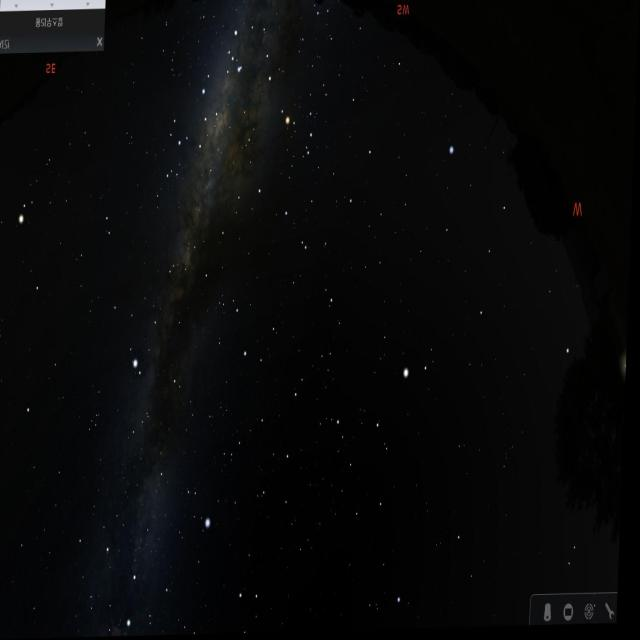aquila: (105, 245, 199, 415)
bootes: (352, 328, 444, 534)
cygnus: (104, 447, 186, 633)
lyra: (187, 476, 218, 536)
sagittarius: (163, 69, 236, 170)
scorpius: (224, 13, 330, 165)
